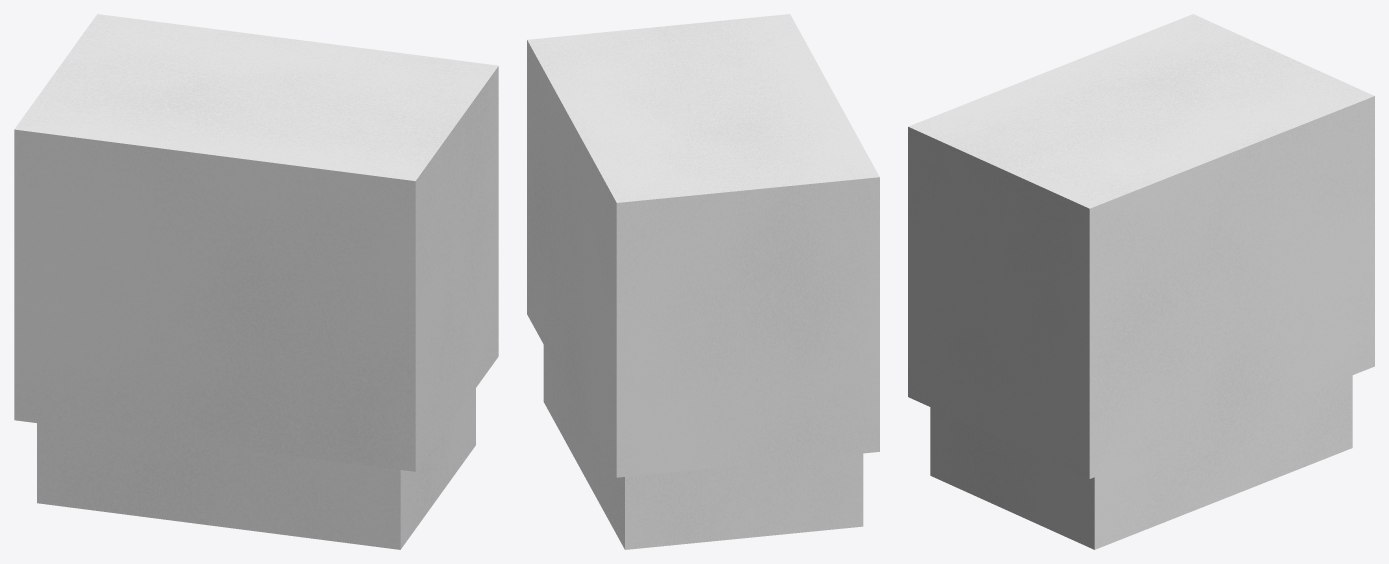
Rendered from FADU.gltf.
The picture shows the model from 3 angles, left to right: view 1: azimuth 30°, elevation 25°; view 2: azimuth 150°, elevation 25°; view 3: azimuth 270°, elevation 25°; orthographic projection. The views are drawn at different scales.
Parts seen in each view (by area): view 1: FADU; view 2: FADU; view 3: FADU.
Part boxes in pixels (x1=…): FADU: x1=14, y1=14, x2=498, y2=549; FADU: x1=527, y1=14, x2=879, y2=549; FADU: x1=908, y1=14, x2=1374, y2=549.
Bounding box in the file's own units: 1.31 × 1.1 × 1.33.
Materials: 1 (1 with a texture image).
